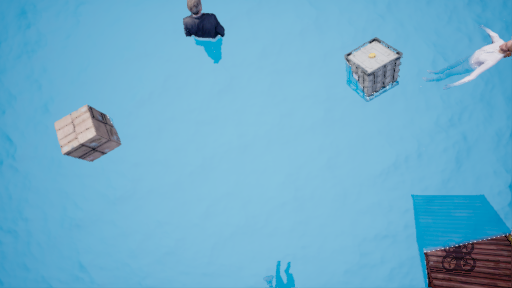person: (430, 26, 512, 81), (182, 1, 231, 69)
